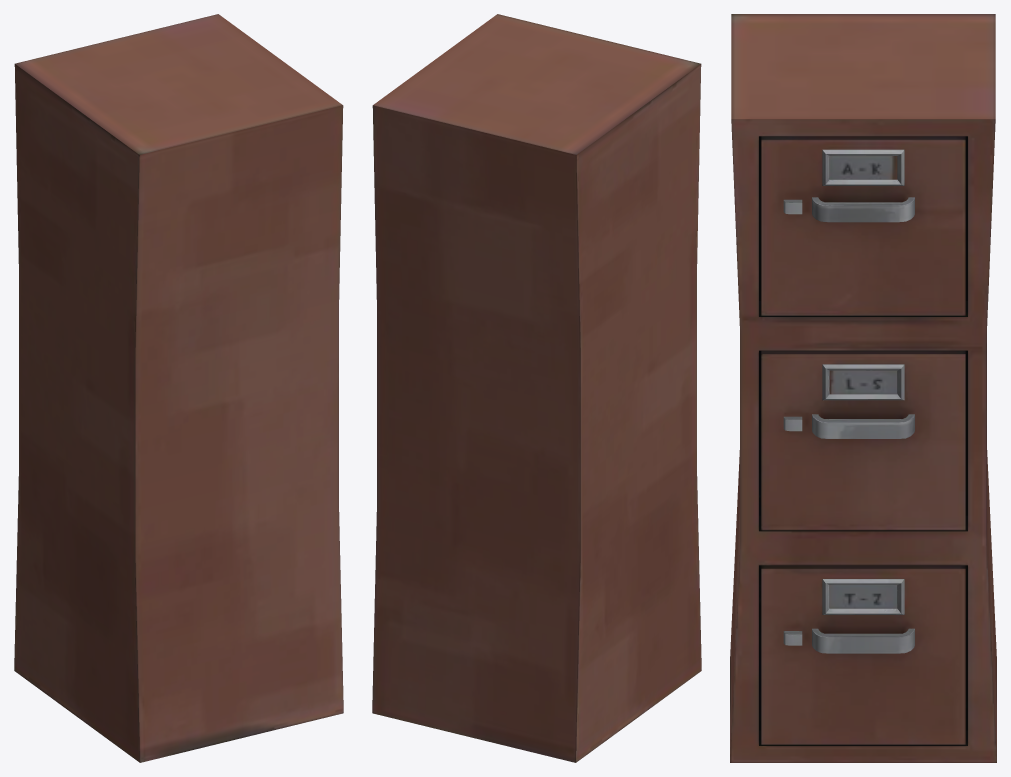
3 renders of one model, left to right at view 1: azimuth 30°, elevation 25°; view 2: azimuth 150°, elevation 25°; view 3: azimuth 270°, elevation 25°, orthographic. The views are drawn at different scales.
Visible parts, largest first — view 1: body0_model0_lod0_mesh0; view 2: body0_model0_lod0_mesh0; view 3: body0_model0_lod0_mesh0.
Boxes of the visible parts, box(x1,y1,x2,y2) form: body0_model0_lod0_mesh0: box(14, 14, 343, 762); body0_model0_lod0_mesh0: box(372, 14, 701, 762); body0_model0_lod0_mesh0: box(730, 14, 996, 762).
Size of the model in its own units: 26.73 by 69.78 by 26.21.
1 material, 1 textured.
